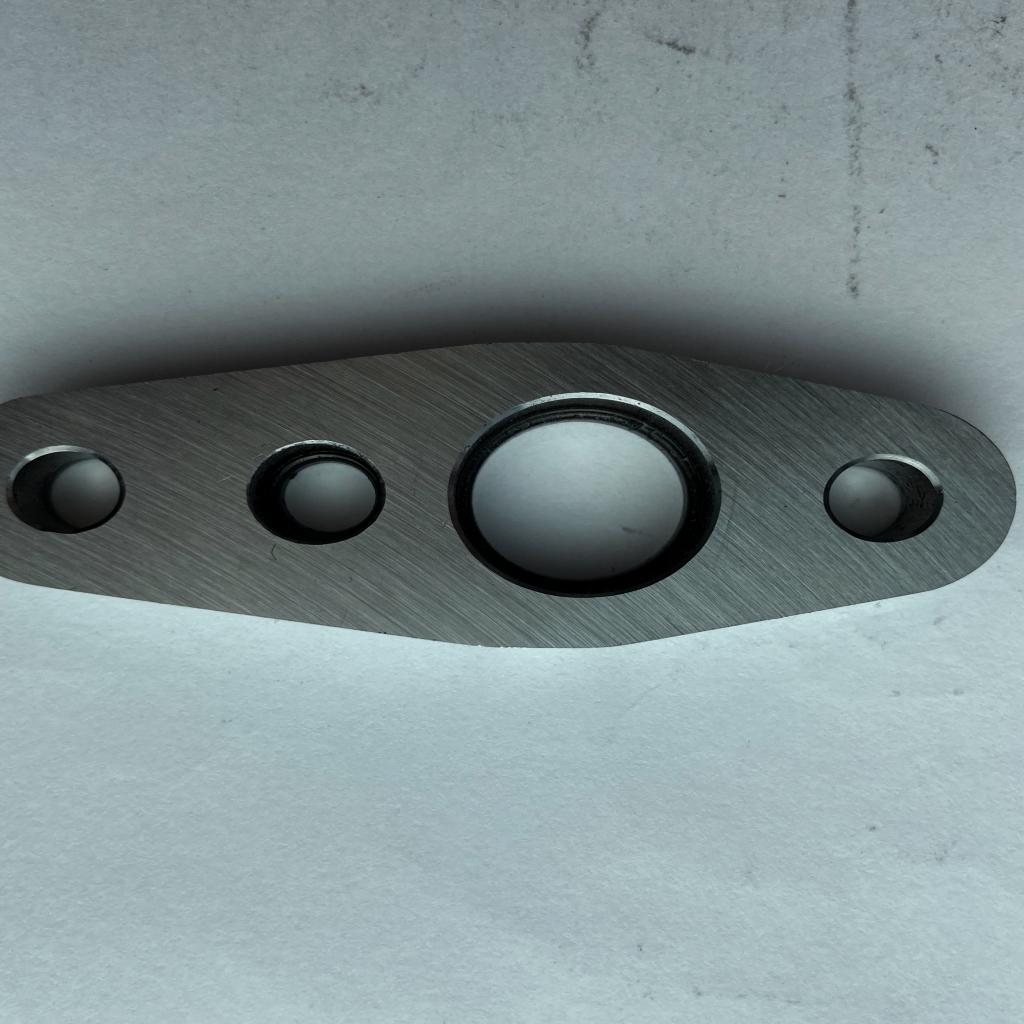chap: (250, 451, 265, 463), (218, 475, 234, 484)
lines: (722, 482, 748, 520), (266, 541, 282, 563)
